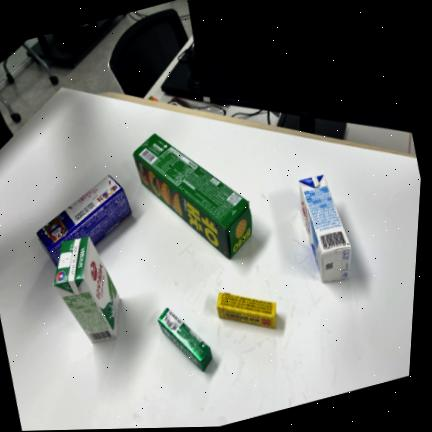cracker_ace: (37, 175, 131, 265)
cracker_vege: (133, 133, 252, 257)
gum_green: (158, 308, 212, 371)
gum_yellow: (217, 292, 276, 327)
milk_blue: (299, 174, 351, 282)
milk_green: (53, 237, 119, 341)
